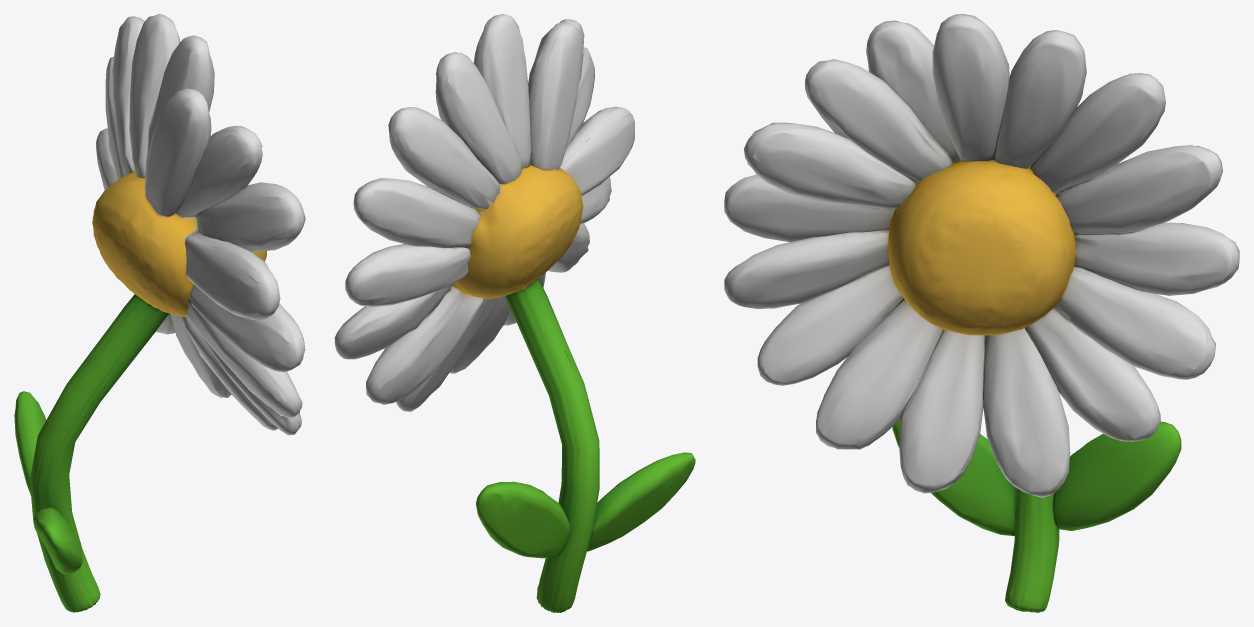
File: r33-daisy.glb
3 renders of one model, left to right at view 1: azimuth 30°, elevation 25°; view 2: azimuth 150°, elevation 25°; view 3: azimuth 270°, elevation 25°, orthographic. The views are drawn at different scales.
Parts seen in each view (by area): view 1: tripo_node_f3c8d5bb-23aa-43b9-b27e-26ba173edab3; view 2: tripo_node_f3c8d5bb-23aa-43b9-b27e-26ba173edab3; view 3: tripo_node_f3c8d5bb-23aa-43b9-b27e-26ba173edab3.
Boxes of the visible parts, x1,y1,x2,y2 form: tripo_node_f3c8d5bb-23aa-43b9-b27e-26ba173edab3: (14, 14, 305, 612); tripo_node_f3c8d5bb-23aa-43b9-b27e-26ba173edab3: (334, 14, 695, 612); tripo_node_f3c8d5bb-23aa-43b9-b27e-26ba173edab3: (724, 14, 1239, 612).
Bounding box in the file's own units: 0.4512 × 0.998 × 0.7246.
Materials: 1 (1 with a texture image).
